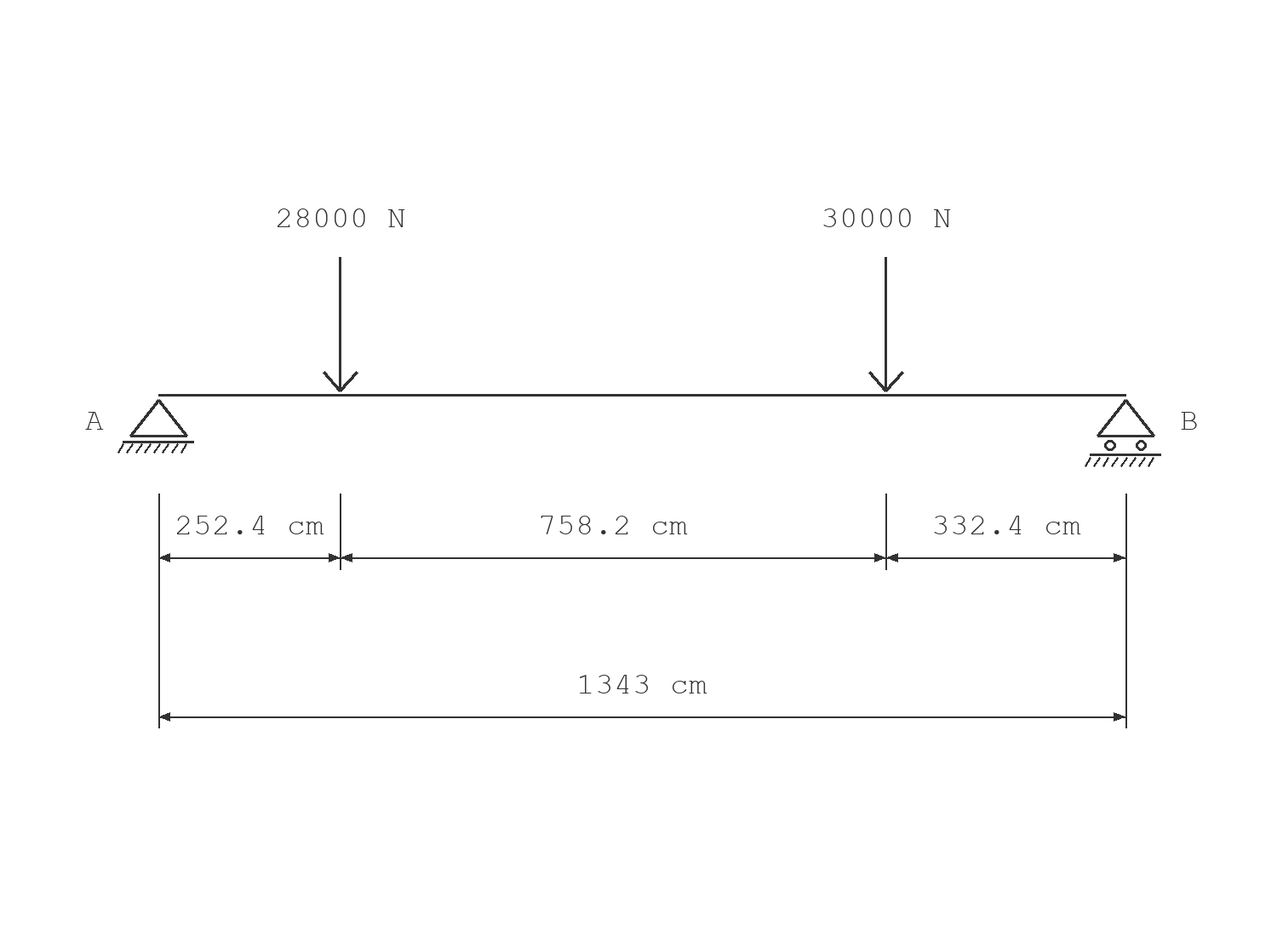pin_support: (117, 399, 194, 454)
point_load: (868, 257, 904, 392), (323, 257, 358, 392)
roller_support: (1085, 399, 1161, 467)
